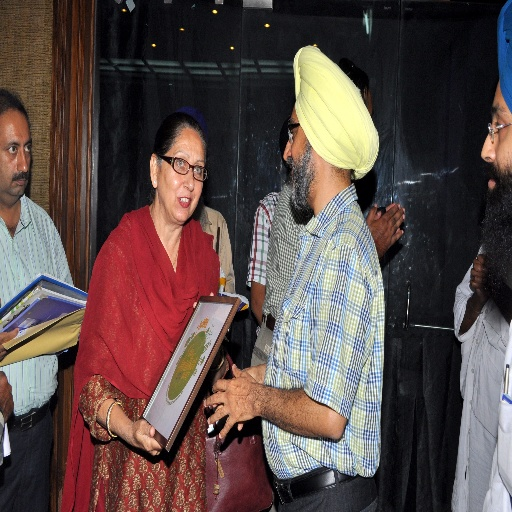hand: (208, 363, 264, 441), (366, 201, 403, 260), (125, 417, 161, 458), (468, 248, 487, 304), (369, 203, 401, 235), (0, 370, 16, 422), (469, 253, 489, 291), (0, 326, 20, 361)
